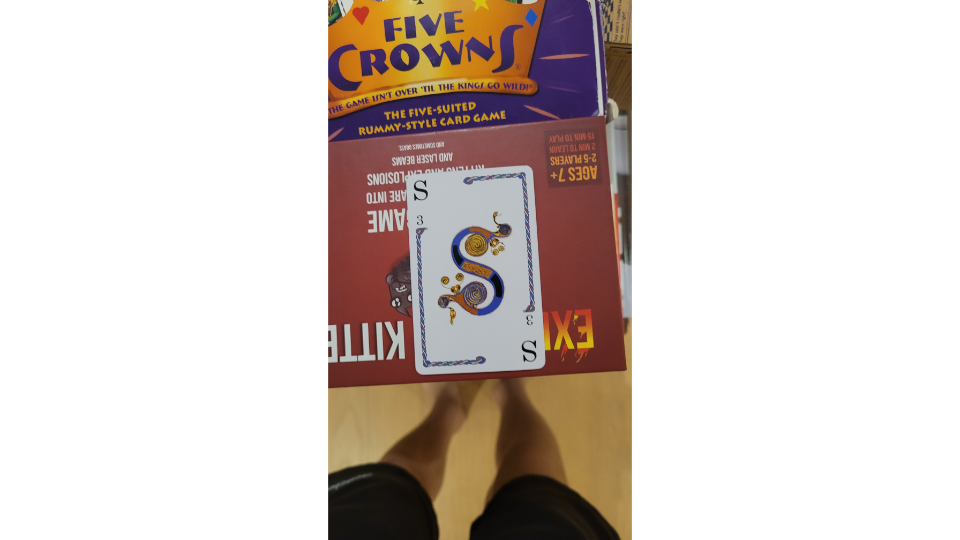S: (403, 163, 549, 376)
